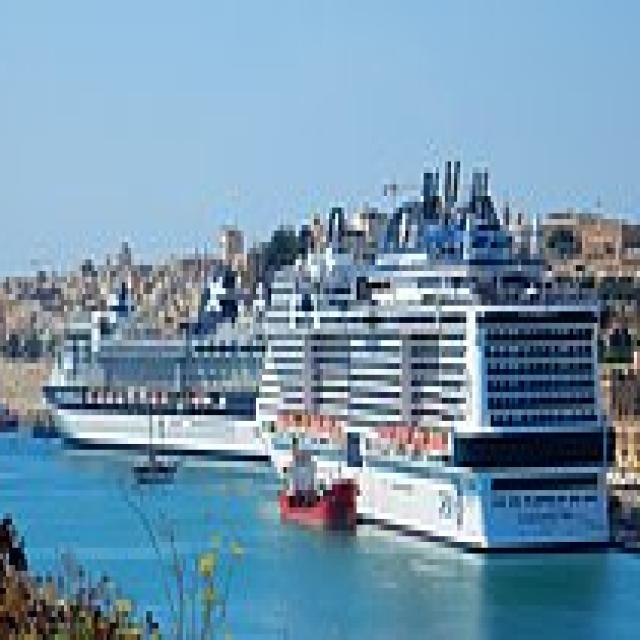Cruise: (256, 150, 619, 553), (46, 248, 286, 444)
